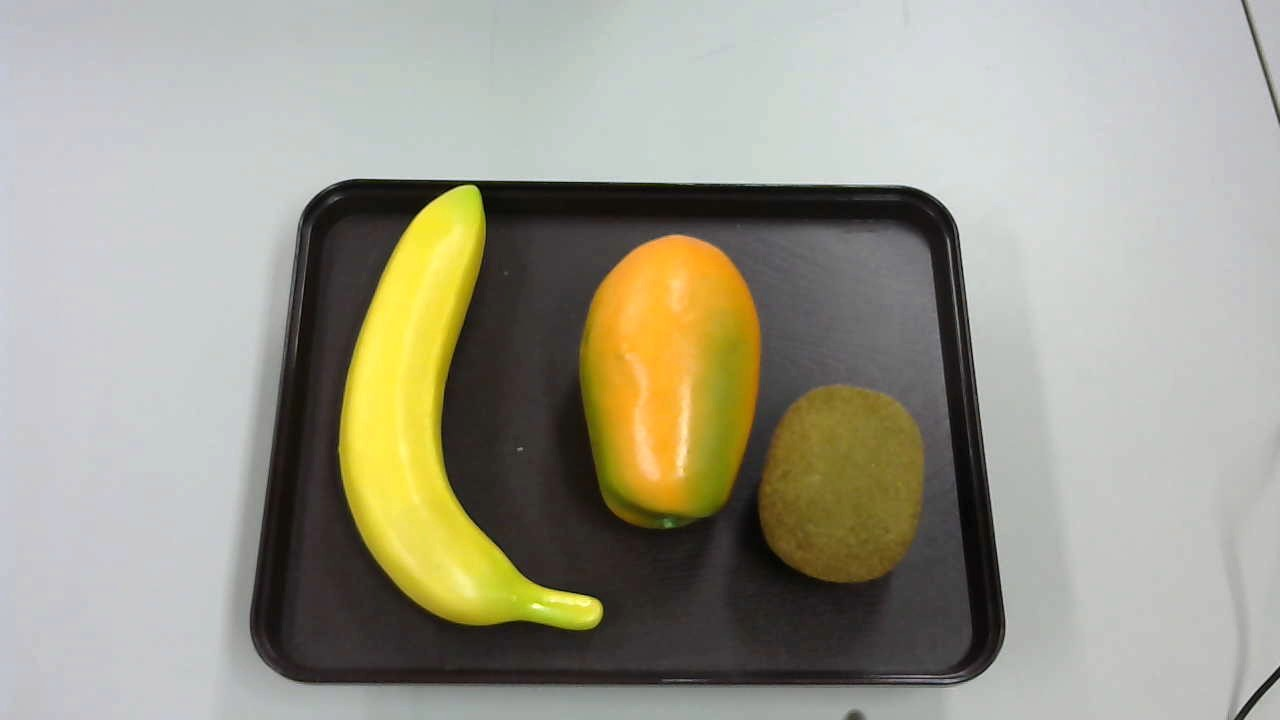banana: (337, 180, 604, 636)
kiwi fruit: (758, 380, 927, 589)
papya: (574, 229, 767, 536)
